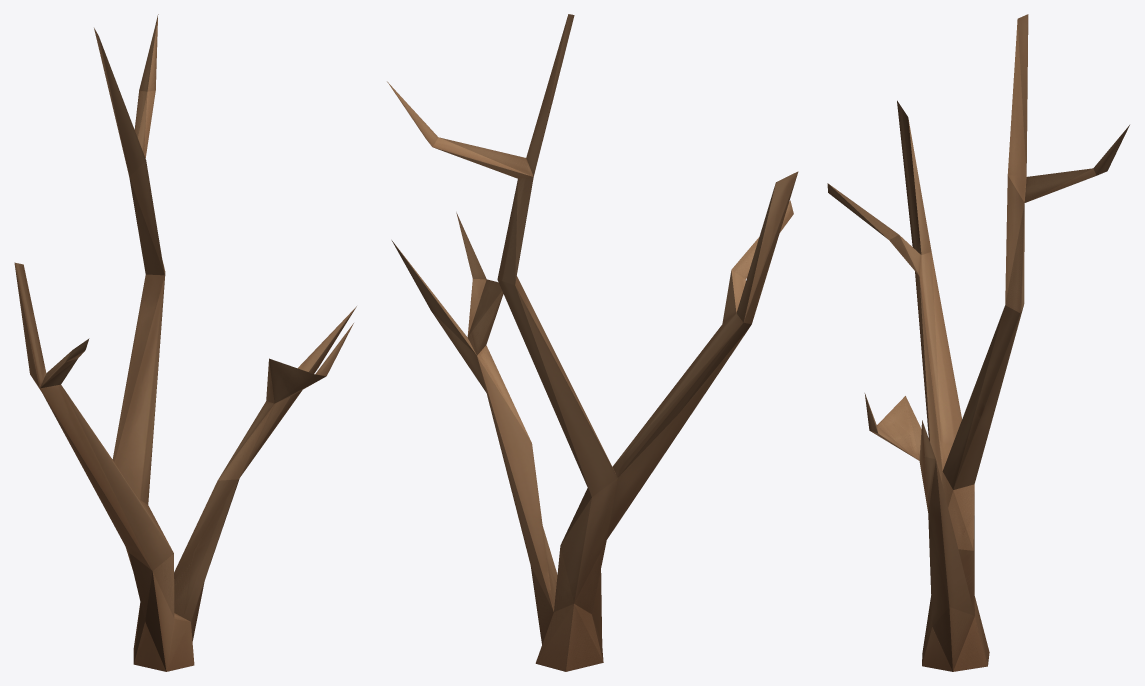
File: Meshy_AI_Bare_Branches_0818042040_texture.fbx
3 views of the same model, side by side, from view 1: azimuth 30°, elevation 25°; view 2: azimuth 150°, elevation 25°; view 3: azimuth 270°, elevation 25° (orthographic). The views are drawn at different scales.
Parts seen in each view (by area): view 1: mesh_node; view 2: mesh_node; view 3: mesh_node.
Part boxes in pixels (x1,y1,x2,y2): mesh_node: (14,14,356,671); mesh_node: (387,14,798,671); mesh_node: (827,14,1129,671).
Bounding box in the file's own units: 60.74 × 100 × 43.75.
Materials: 1 (1 with a texture image).
